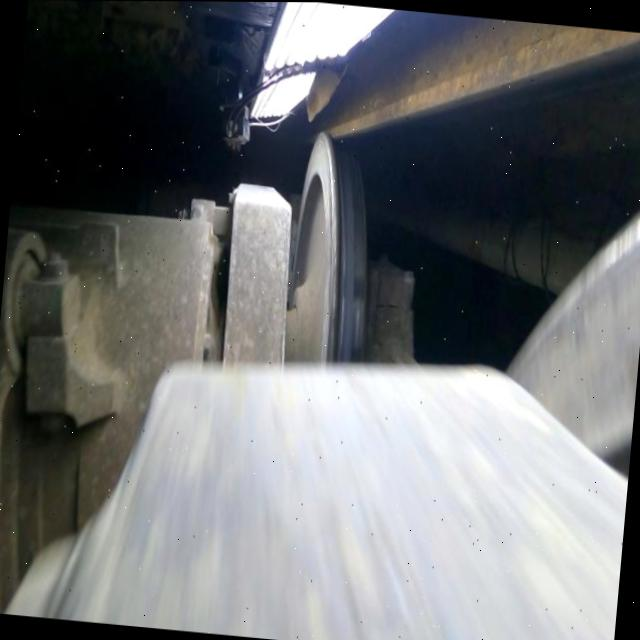Cracks-Scratches: (324, 143, 338, 317)
Discoloration: (337, 147, 362, 225)
Wheel: (284, 130, 366, 360)
